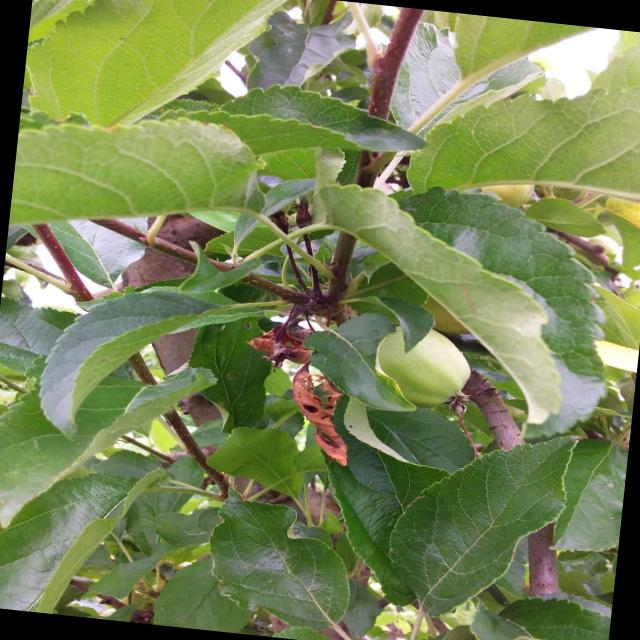-FireBlight-: (227, 308, 354, 464)
